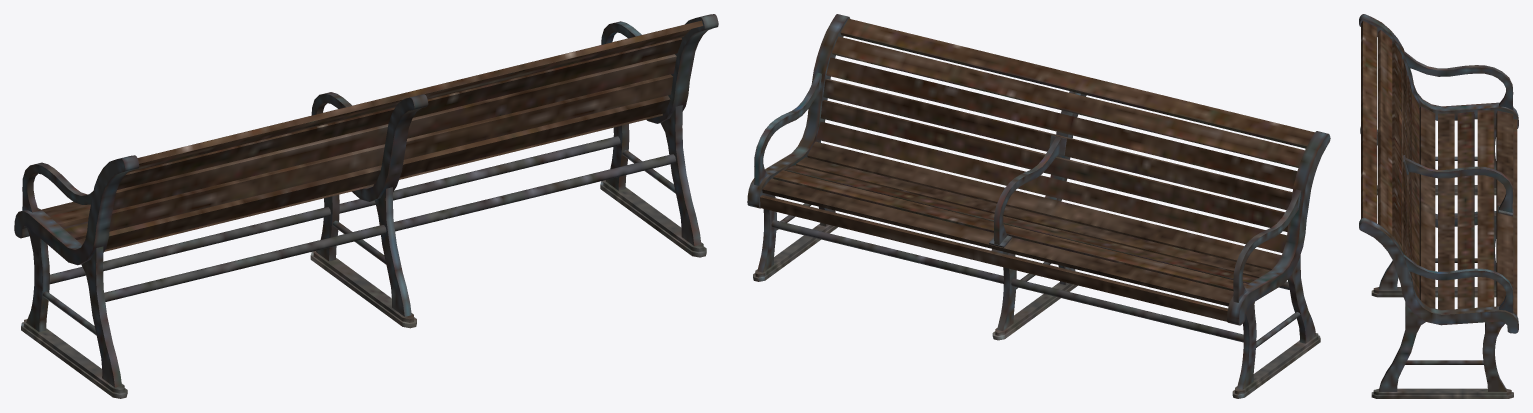
Rendered from sm0044_bench01.fbx.
3 renders of one model, left to right at view 1: azimuth 30°, elevation 25°; view 2: azimuth 150°, elevation 25°; view 3: azimuth 270°, elevation 25°, orthographic. The views are drawn at different scales.
Visible parts, largest first — view 1: LOD_1_Group_0_Sub_1__EmWoodA__EbDefault__1; view 2: LOD_1_Group_0_Sub_1__EmWoodA__EbDefault__1; view 3: LOD_1_Group_0_Sub_1__EmWoodA__EbDefault__1.
Part boxes in pixels (bbox=[...]): LOD_1_Group_0_Sub_1__EmWoodA__EbDefault__1: bbox=[14, 14, 718, 398]; LOD_1_Group_0_Sub_1__EmWoodA__EbDefault__1: bbox=[747, 14, 1330, 398]; LOD_1_Group_0_Sub_1__EmWoodA__EbDefault__1: bbox=[1359, 14, 1518, 398].
Size of the model in its own units: 255 by 101 by 82.68.
